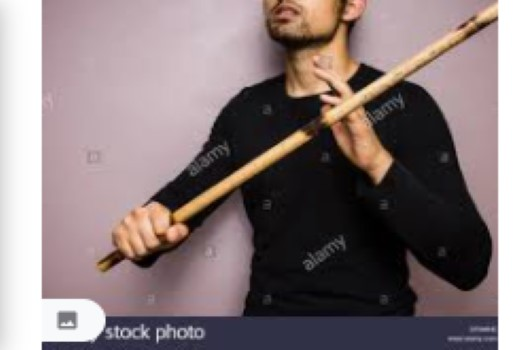baston_e: (163, 12, 459, 250)
baston_v: (86, 243, 121, 280), (482, 0, 512, 24)
